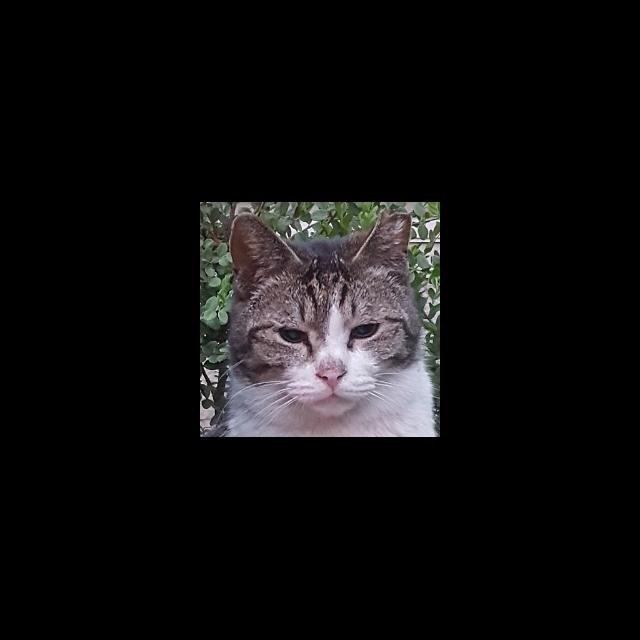animals: (227, 204, 423, 423)
